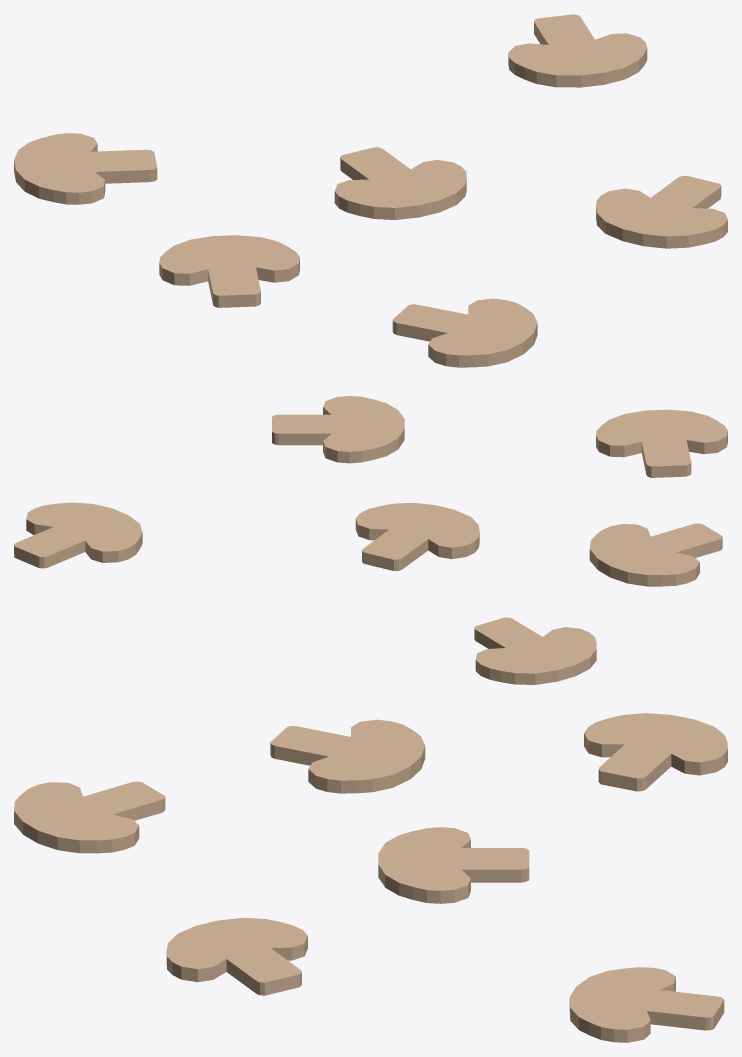
Rendered from mushroomsliceMulti.dae.
The picture shows the model from 3 angles, top to bottom: view 1: azimuth 30°, elevation 25°; view 2: azimuth 150°, elevation 25°; view 3: azimuth 270°, elevation 25°; orthographic projection. The views are drawn at different scales.
Visible parts, largest first — view 1: Cube; view 2: Cube; view 3: Cube.
Part boxes in pixels (x1=…): Cube: x1=14, y1=14, x2=727, y2=367; Cube: x1=14, y1=396, x2=727, y2=684; Cube: x1=14, y1=713, x2=727, y2=1042.
Size of the model in its own units: 1.93 by 1.84 by 0.0368.
